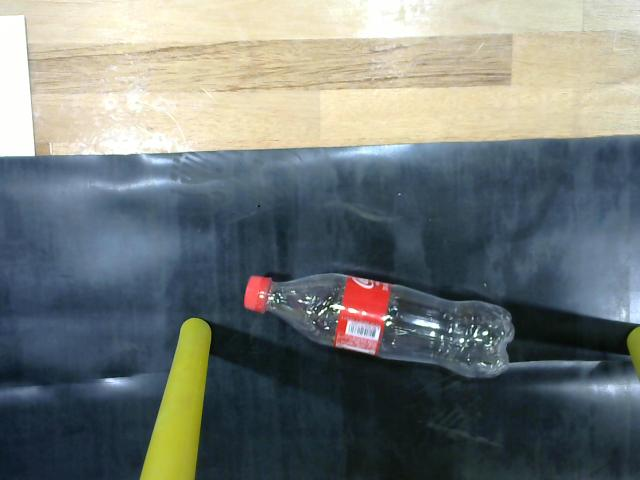bottle: (235, 266, 526, 396)
